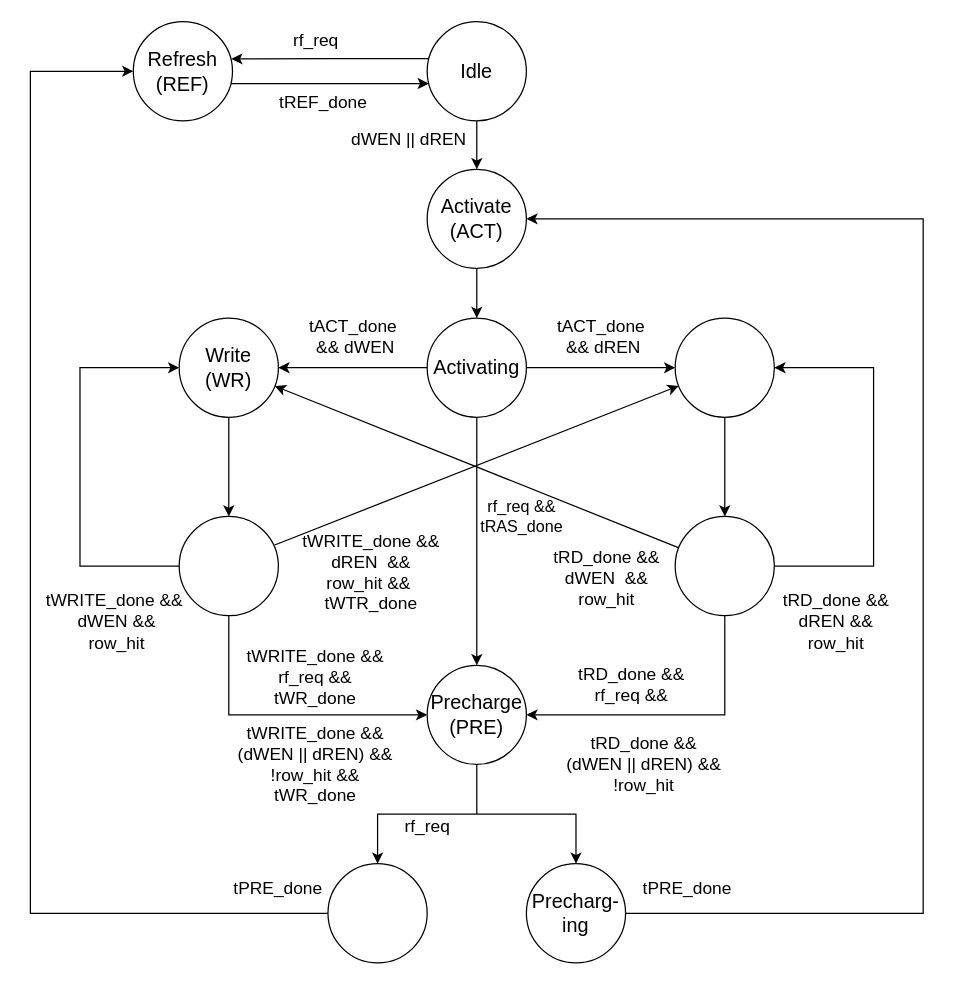
Some shapes in this 955 by 985 pixel diagram are drawn without their labels. Here are the shapes that lost their labels. From the top down, the box of each, then its label:
(674, 317, 774, 417): Read (RD)
(178, 515, 278, 616): Writing
(674, 515, 774, 616): Reading
(327, 862, 427, 963): Precharg- ing_ALL
